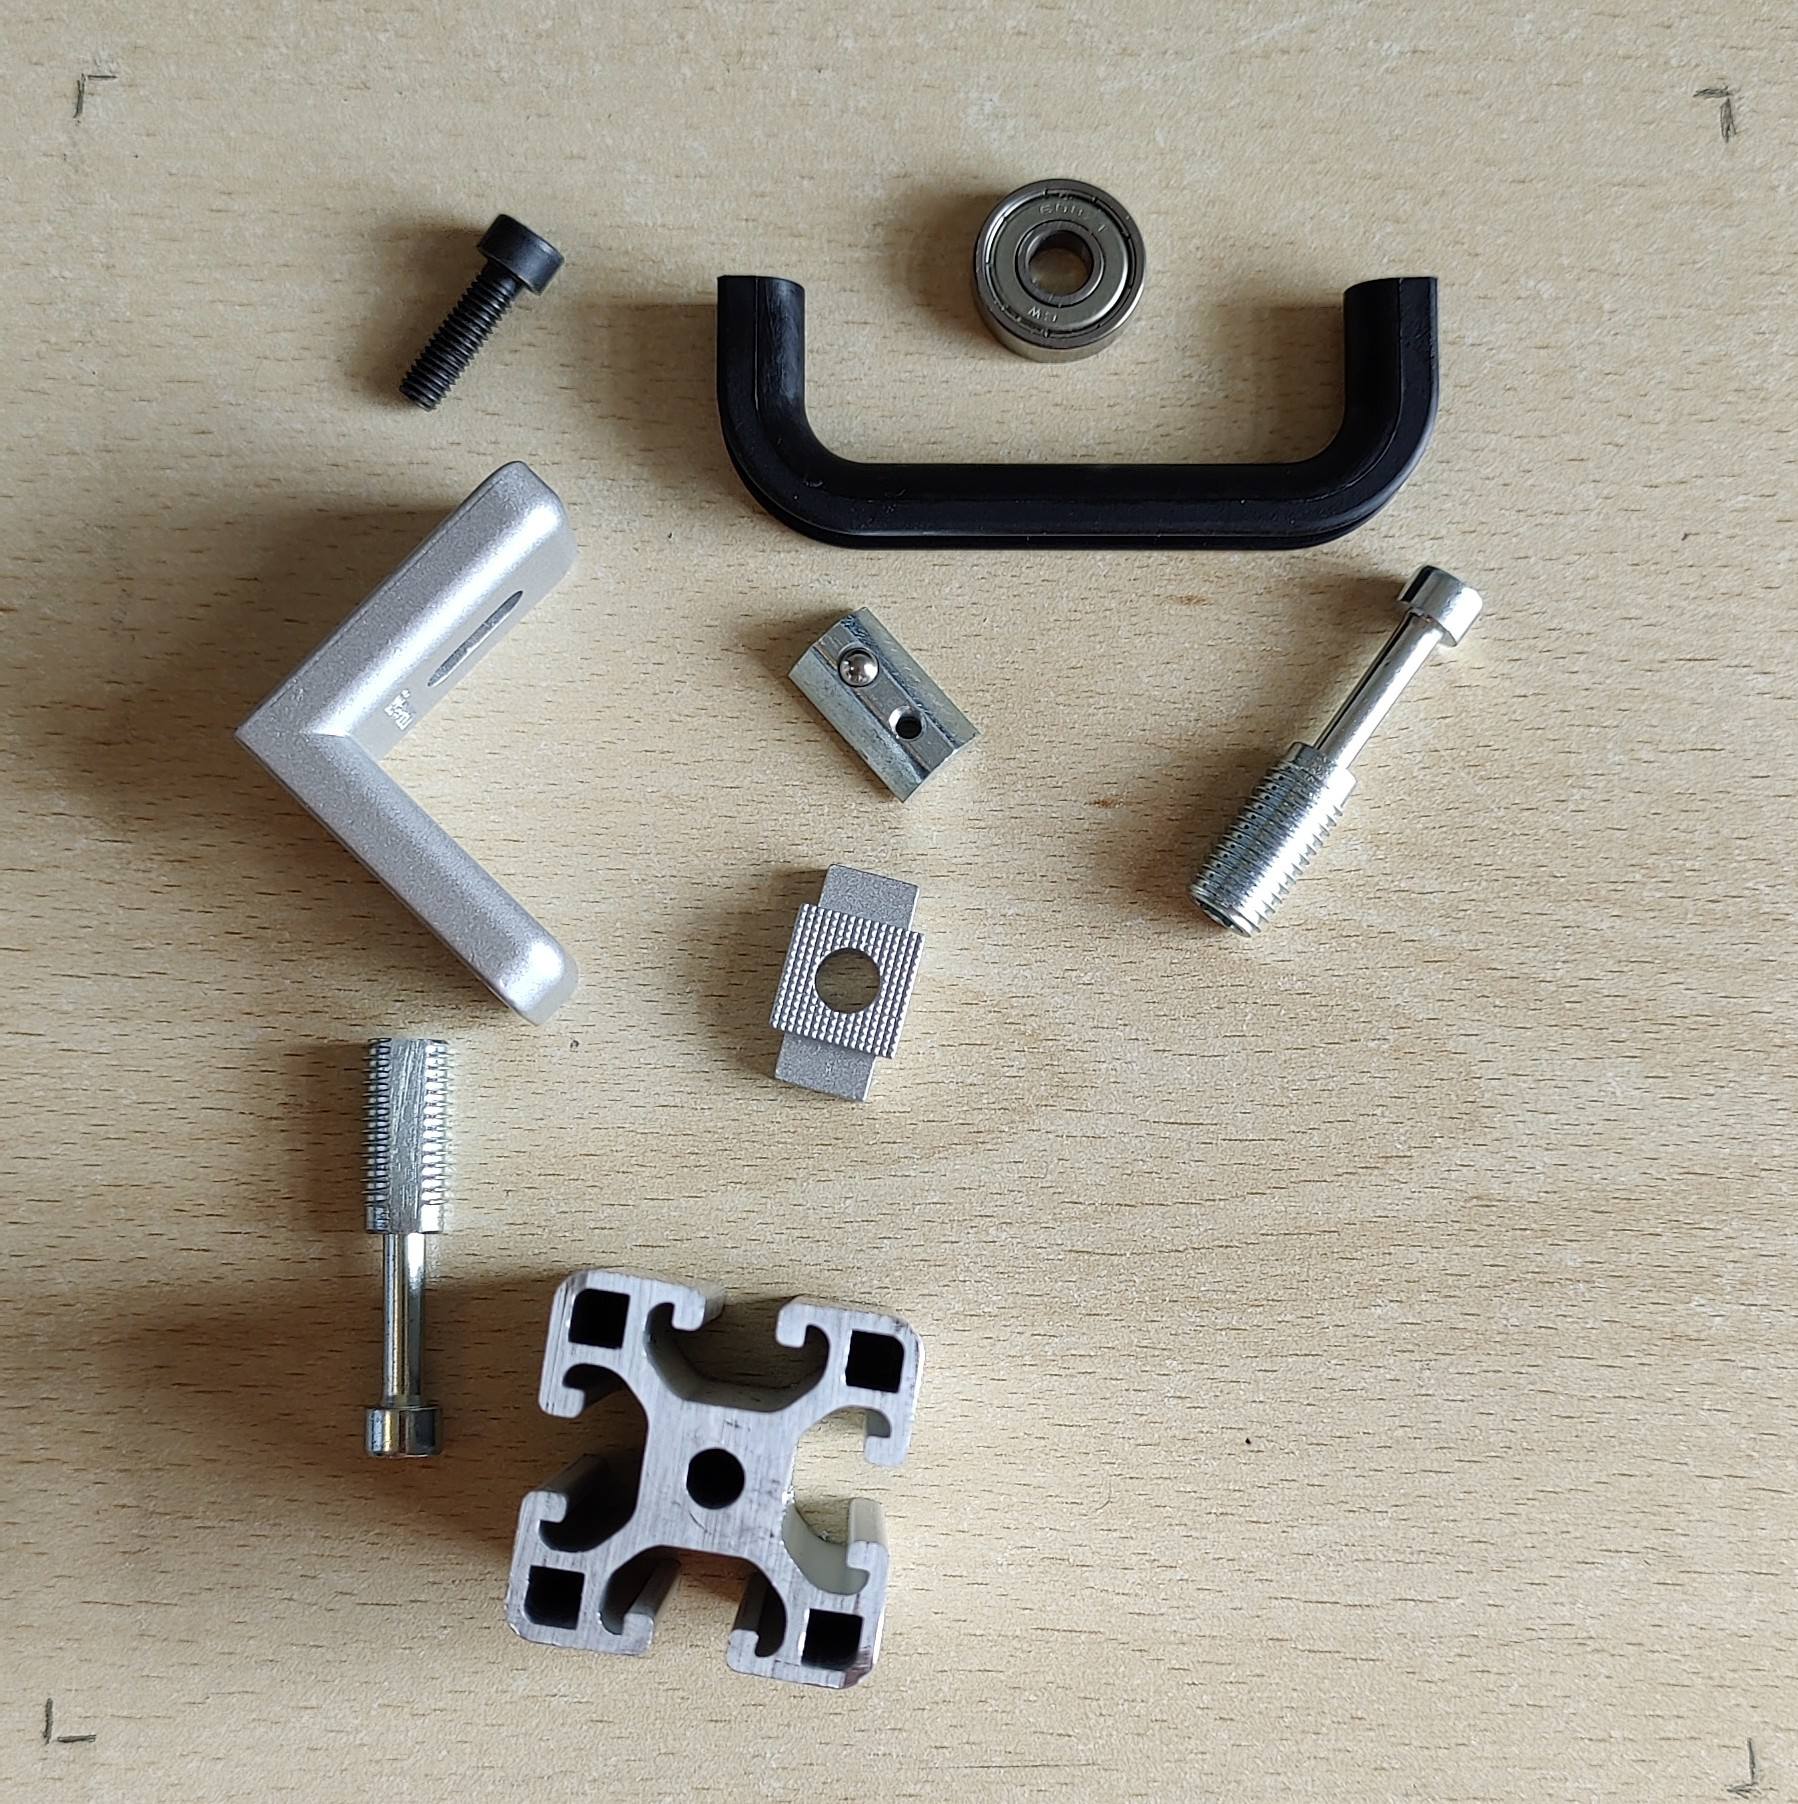Aluminium Extension: (502, 1264, 925, 1692)
Ball Bearing: (970, 174, 1148, 365)
Multiwinkel: (227, 459, 581, 1030)
Pull Handle: (711, 270, 1442, 556)
Shoulder Socket Head Cap Screw: (1187, 563, 1487, 940), (359, 1037, 458, 1463)
Socket Head Cap Screw: (395, 211, 566, 415)
T Nut Square: (767, 862, 929, 1104)
T Spring Nut: (784, 604, 985, 805)
